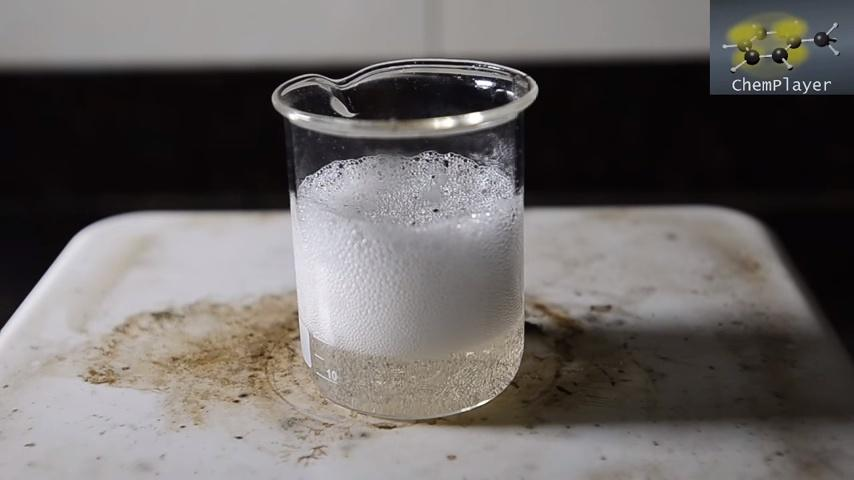Beaker: (262, 61, 554, 418)
